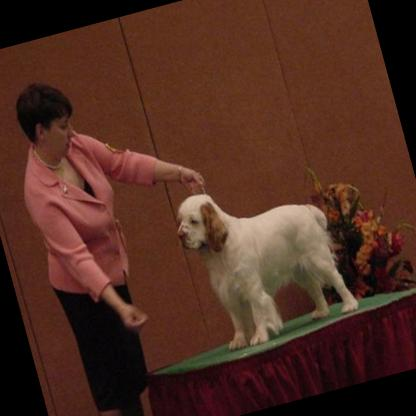clumber: (165, 158, 361, 358)
